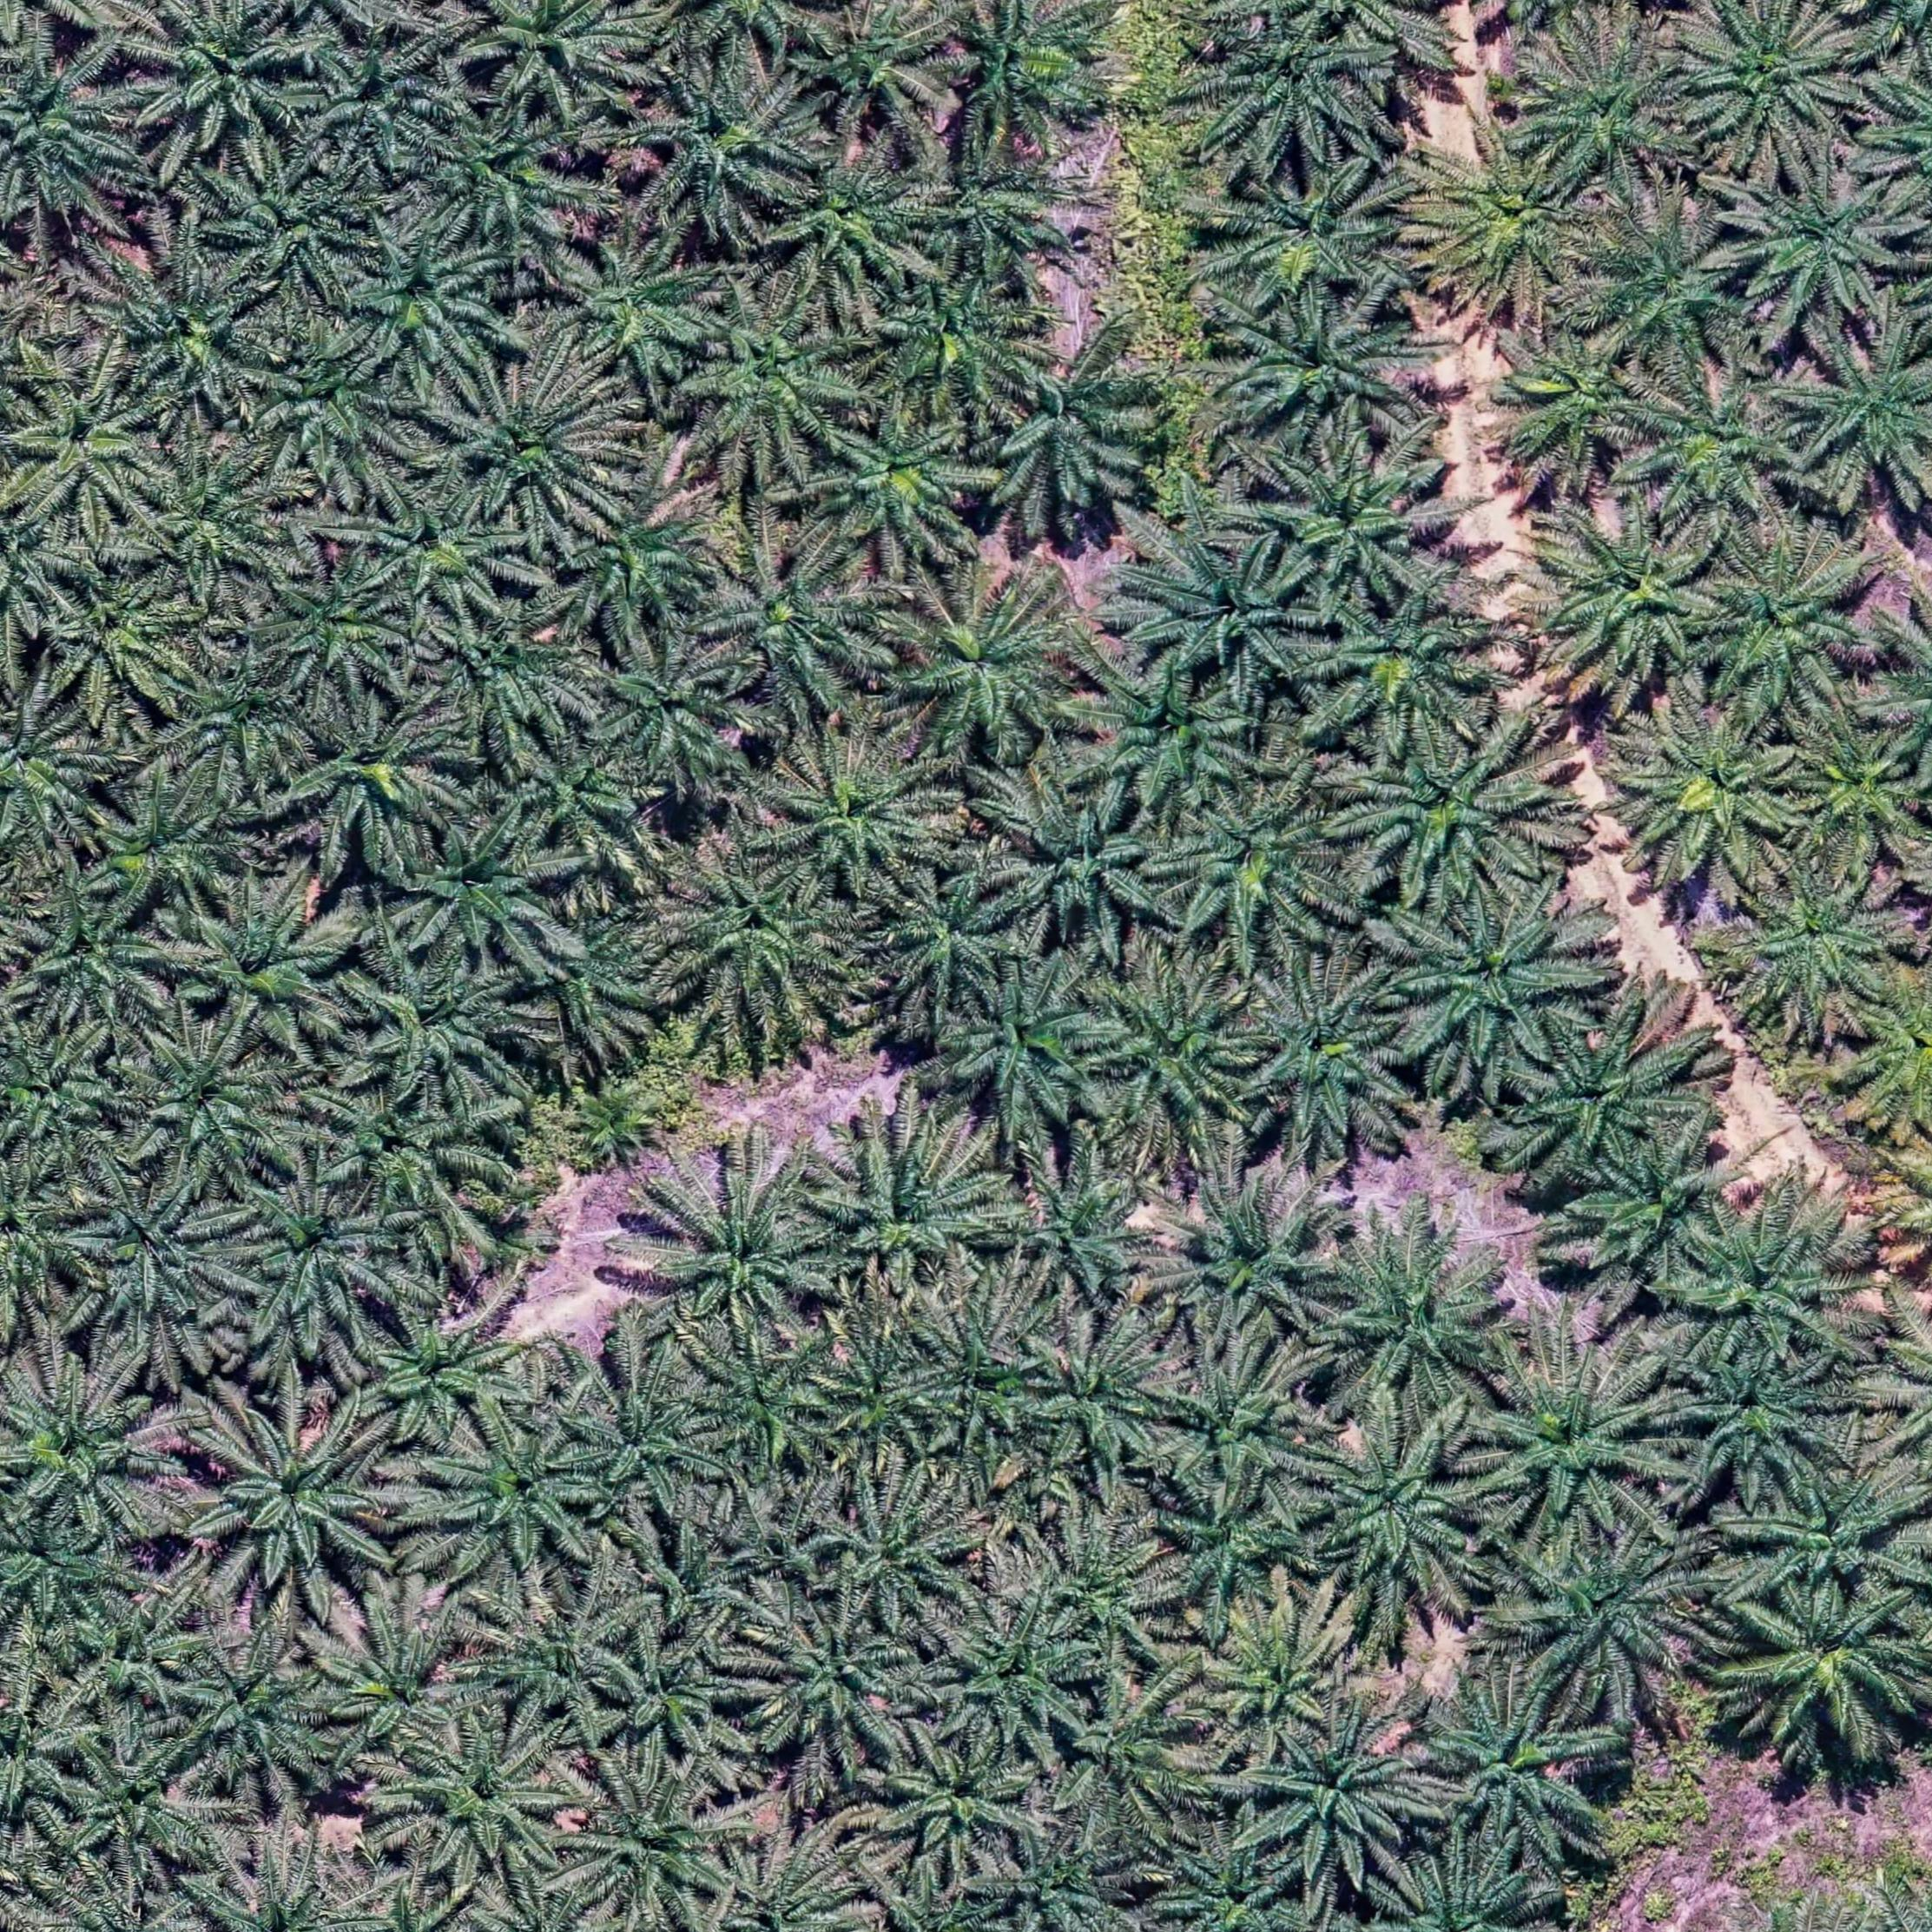palmtree: (1338, 720, 1569, 915), (189, 1394, 409, 1599), (1495, 1522, 1721, 1713), (1384, 890, 1599, 1083), (1667, 1196, 1884, 1378), (1606, 695, 1810, 890), (1150, 1166, 1355, 1359), (1313, 1219, 1514, 1414), (1152, 775, 1362, 961), (1477, 1341, 1679, 1534), (1525, 495, 1729, 686), (294, 1060, 499, 1240), (630, 55, 828, 241), (1697, 533, 1888, 724), (1415, 1683, 1612, 1868), (892, 571, 1088, 757), (1231, 962, 1419, 1155), (1081, 962, 1270, 1152), (1304, 1417, 1497, 1603), (1723, 1578, 1925, 1755), (1251, 437, 1454, 612), (660, 855, 865, 1028), (977, 340, 1166, 527), (175, 876, 368, 1058), (697, 534, 886, 718), (1412, 133, 1605, 311), (223, 1178, 407, 1364), (810, 1116, 1003, 1293), (649, 1164, 844, 1338), (391, 1721, 587, 1893), (65, 1169, 249, 1352), (934, 964, 1123, 1141), (1249, 1706, 1438, 1882), (984, 778, 1175, 952), (1725, 862, 1914, 1035), (1729, 156, 1918, 329), (1313, 575, 1502, 748), (1141, 536, 1329, 709), (747, 1599, 931, 1773), (1077, 651, 1261, 824), (1233, 290, 1435, 448), (1681, 2, 1874, 166), (688, 288, 867, 465), (4, 1362, 184, 1537), (426, 1419, 614, 1587), (1626, 370, 1817, 534), (347, 948, 540, 1111), (1514, 1014, 1704, 1175), (1520, 30, 1700, 196), (1661, 1343, 1849, 1502), (1560, 1123, 1743, 1286), (126, 1019, 301, 1187), (812, 396, 989, 563), (1582, 207, 1759, 373), (996, 1152, 1173, 1318), (448, 363, 626, 527), (99, 249, 283, 409), (1203, 9, 1387, 168), (1490, 326, 1668, 487), (1221, 159, 1407, 313), (1154, 1339, 1330, 1500), (1734, 1465, 1923, 1615), (566, 1764, 747, 1921), (771, 740, 950, 895), (313, 1601, 492, 1755), (361, 1293, 536, 1449), (419, 104, 596, 258), (343, 221, 510, 384), (134, 4, 310, 157), (908, 136, 1083, 290), (587, 633, 755, 793), (872, 262, 1044, 418), (938, 1599, 1104, 1759), (559, 234, 729, 387), (168, 1631, 340, 1782), (428, 598, 600, 748), (515, 899, 676, 1058), (1021, 1318, 1185, 1474), (564, 479, 729, 635), (943, 0, 1122, 143), (212, 149, 379, 303), (1192, 1603, 1362, 1753), (387, 819, 559, 968), (1049, 1668, 1214, 1822), (60, 1732, 226, 1884), (906, 1295, 1062, 1456), (810, 1483, 977, 1633), (1790, 326, 1932, 501), (1776, 709, 1930, 870), (292, 699, 456, 849), (874, 1730, 1040, 1879), (14, 368, 172, 524), (1023, 1516, 1184, 1667), (18, 885, 182, 1031), (363, 487, 527, 633), (770, 159, 938, 301), (478, 1591, 640, 1734), (138, 444, 290, 596), (0, 41, 136, 209), (294, 35, 456, 175), (596, 1629, 759, 1766), (258, 324, 409, 471), (575, 1375, 727, 1514), (796, 0, 959, 129), (165, 648, 315, 787), (694, 1336, 847, 1472), (0, 1023, 138, 1173), (1152, 1479, 1304, 1615), (876, 870, 1028, 1007), (97, 780, 251, 915), (58, 1587, 218, 1716), (264, 559, 412, 695), (471, 0, 648, 111), (621, 1520, 775, 1647), (0, 672, 108, 851), (637, 142, 817, 244), (0, 1155, 104, 1329), (982, 1831, 1154, 1932), (57, 566, 191, 694), (702, 1838, 876, 1932), (819, 1336, 945, 1463), (0, 1514, 133, 1635), (1154, 1831, 1311, 1932), (191, 1852, 387, 1932), (1845, 966, 1932, 1145), (511, 736, 646, 851), (561, 1065, 692, 1171), (0, 474, 83, 635)
